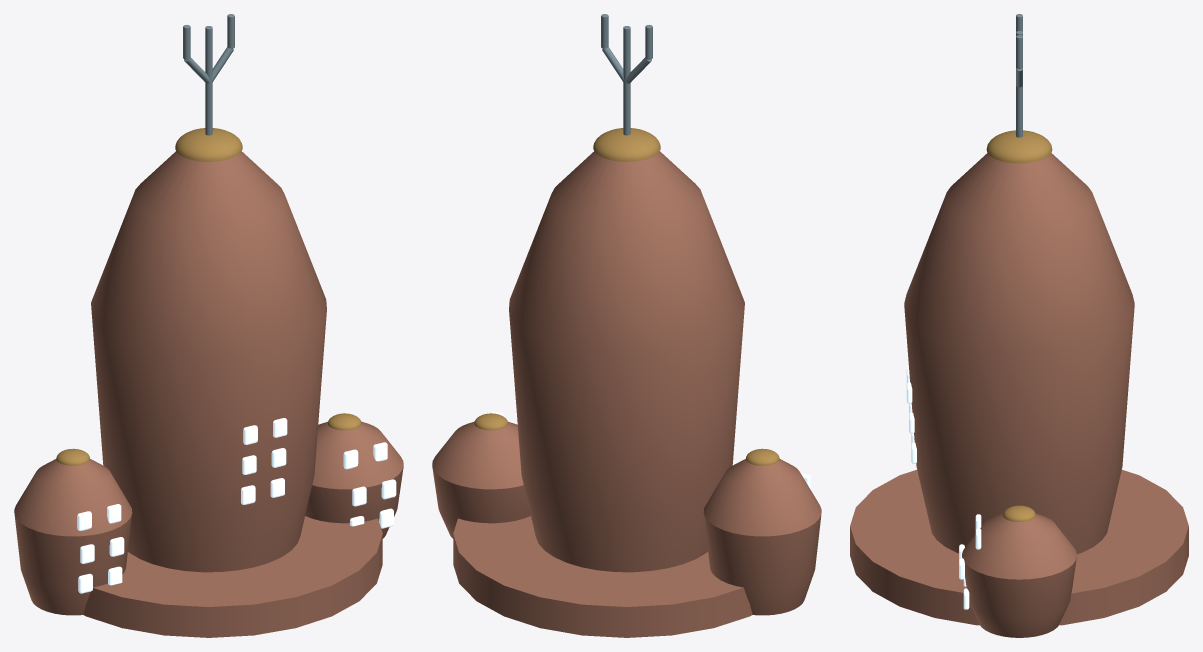
3 views of the same model, side by side, from view 1: azimuth 30°, elevation 25°; view 2: azimuth 150°, elevation 25°; view 3: azimuth 270°, elevation 25° (orthographic). The views are drawn at different scales.
Visible parts, largest first — view 1: Bulb shaped chamber, Foundation drum, Bulb shaped chamber.002, Bulb shaped chamber.001, Tower crown, Aerial stem; view 2: Bulb shaped chamber, Foundation drum, Bulb shaped chamber.002, Bulb shaped chamber.001, Tower crown, Aerial stem; view 3: Bulb shaped chamber, Foundation drum, Bulb shaped chamber.001, Tower crown.
Part boxes in pixels (x1,y1,x2,y2): Bulb shaped chamber: (91,151,326,572); Foundation drum: (83,516,382,637); Bulb shaped chamber.002: (14,459,132,615); Bulb shaped chamber.001: (305,421,403,538); Tower crown: (175,128,242,161); Aerial stem: (205,26,212,135); Bulb shaped chamber: (509,151,744,572); Foundation drum: (453,516,752,637); Bulb shaped chamber.002: (703,459,821,615); Bulb shaped chamber.001: (432,421,530,538); Tower crown: (593,128,660,161); Aerial stem: (623,26,630,135); Bulb shaped chamber: (904,153,1134,554); Foundation drum: (850,469,1188,625); Bulb shaped chamber.001: (962,513,1076,637); Tower crown: (986,130,1052,163).
Bounding box in the file's own units: 2.53 × 3.52 × 2.04.
